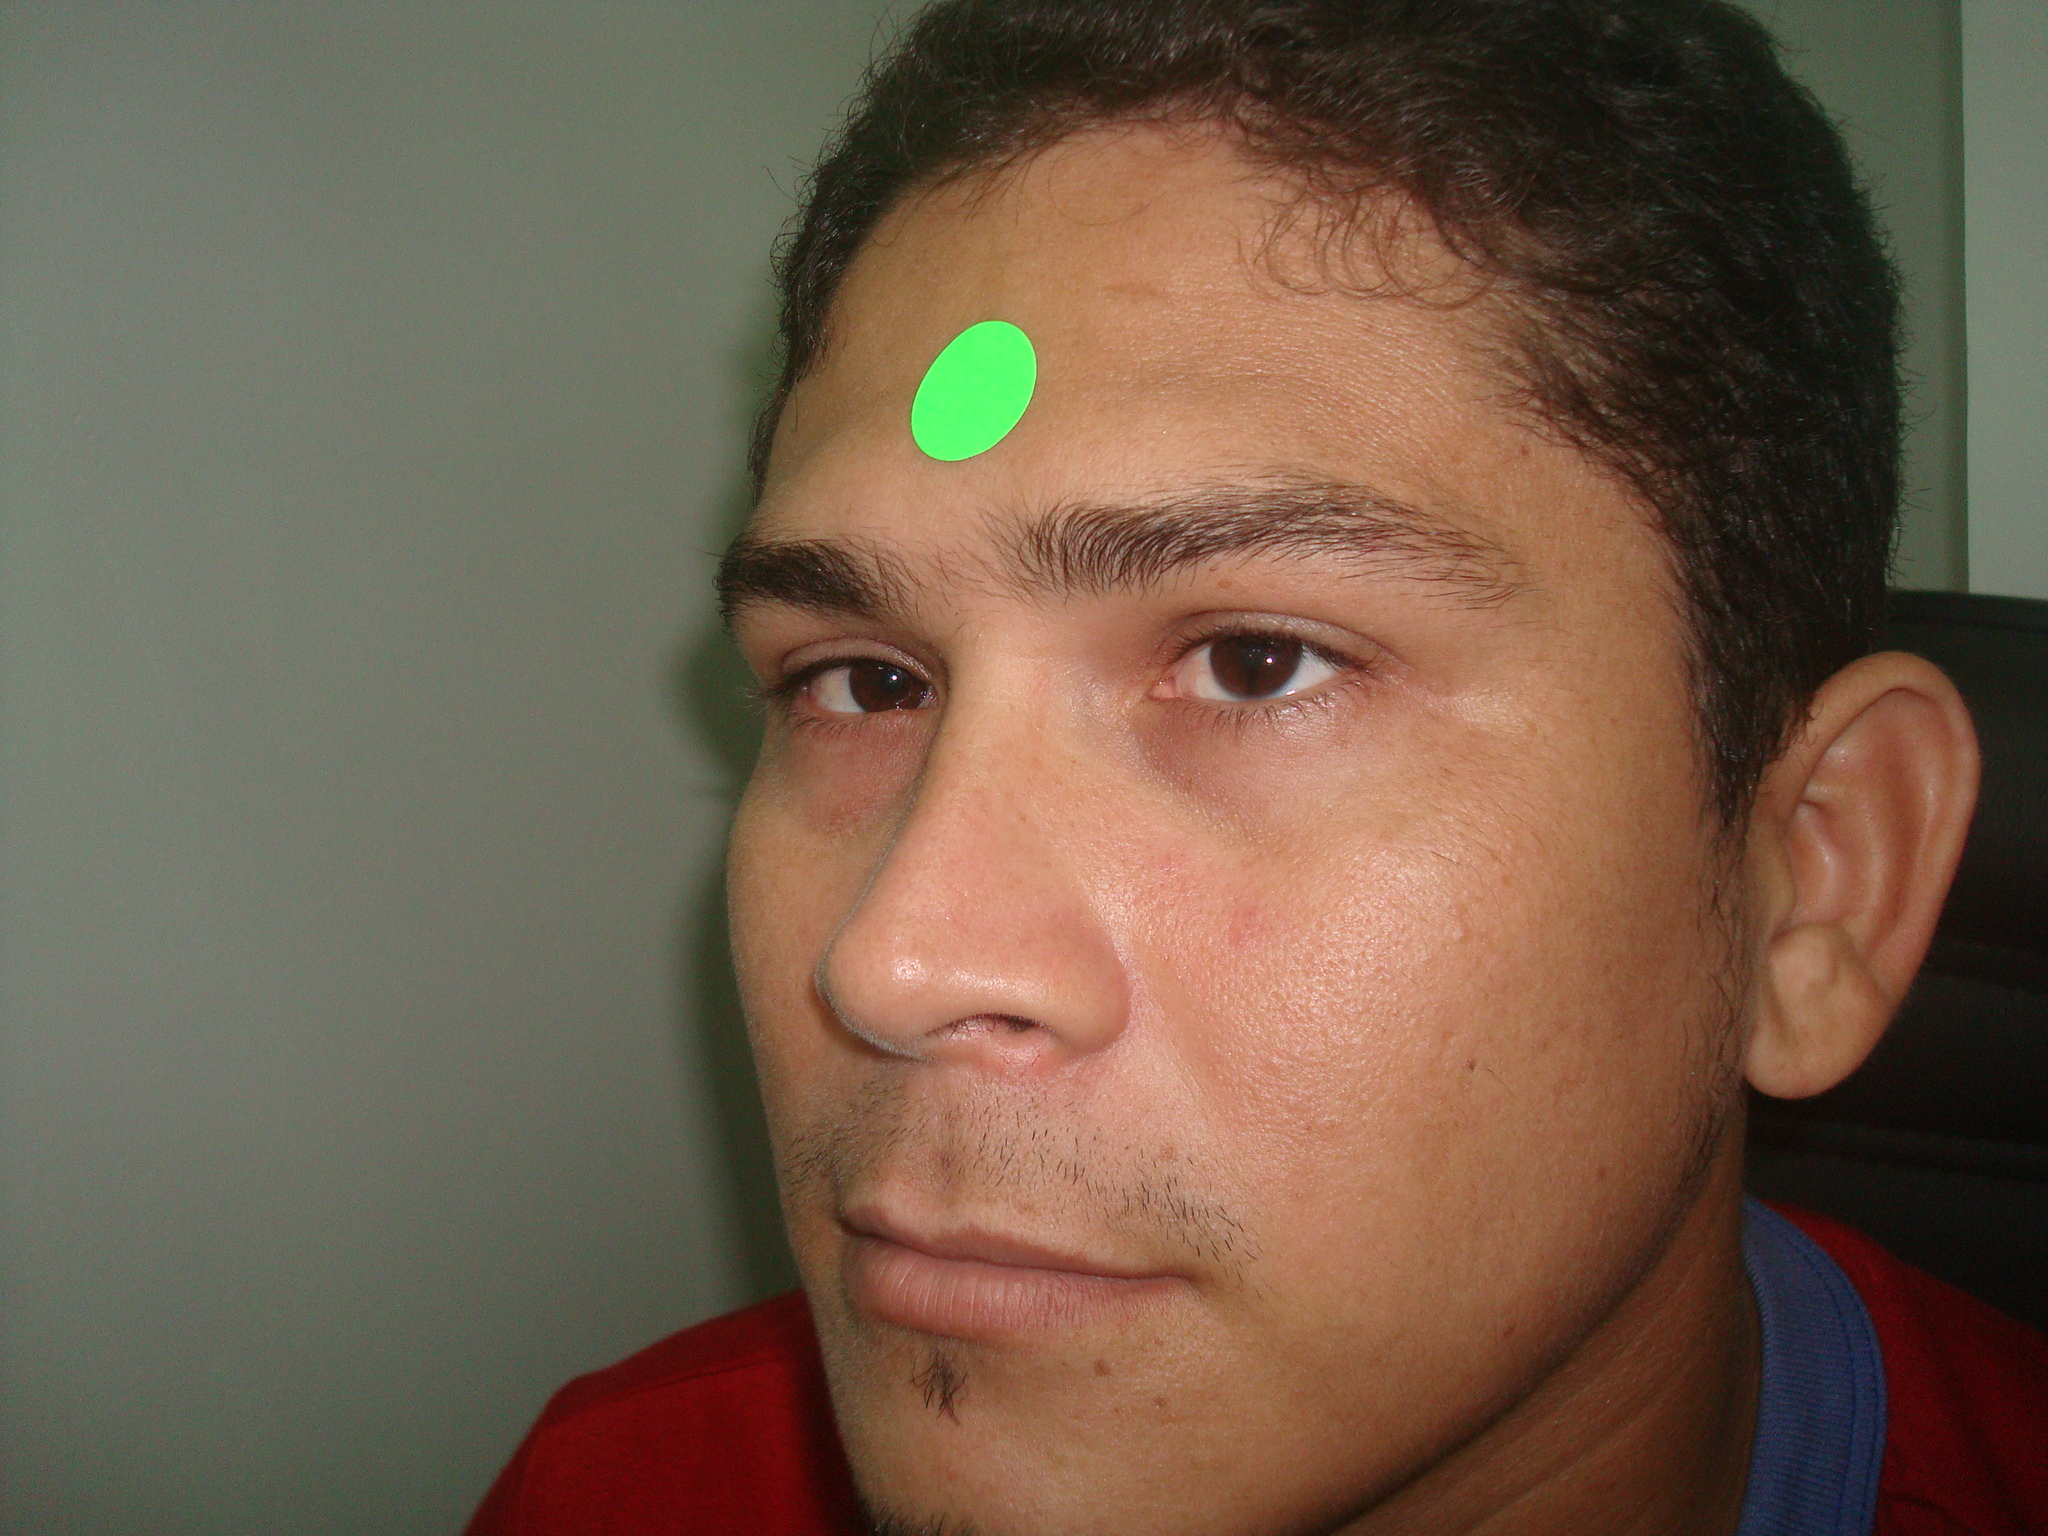flash: (887, 673, 900, 684), (1264, 655, 1276, 666)
limbo: (1209, 616, 1300, 694), (855, 649, 930, 710)
